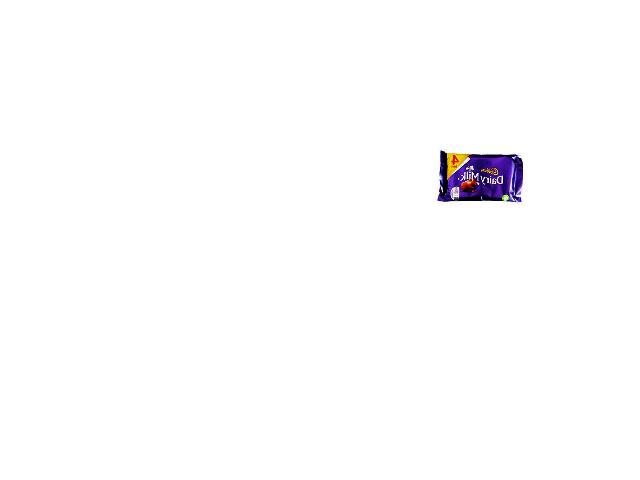chocolate: (428, 151, 525, 208)
